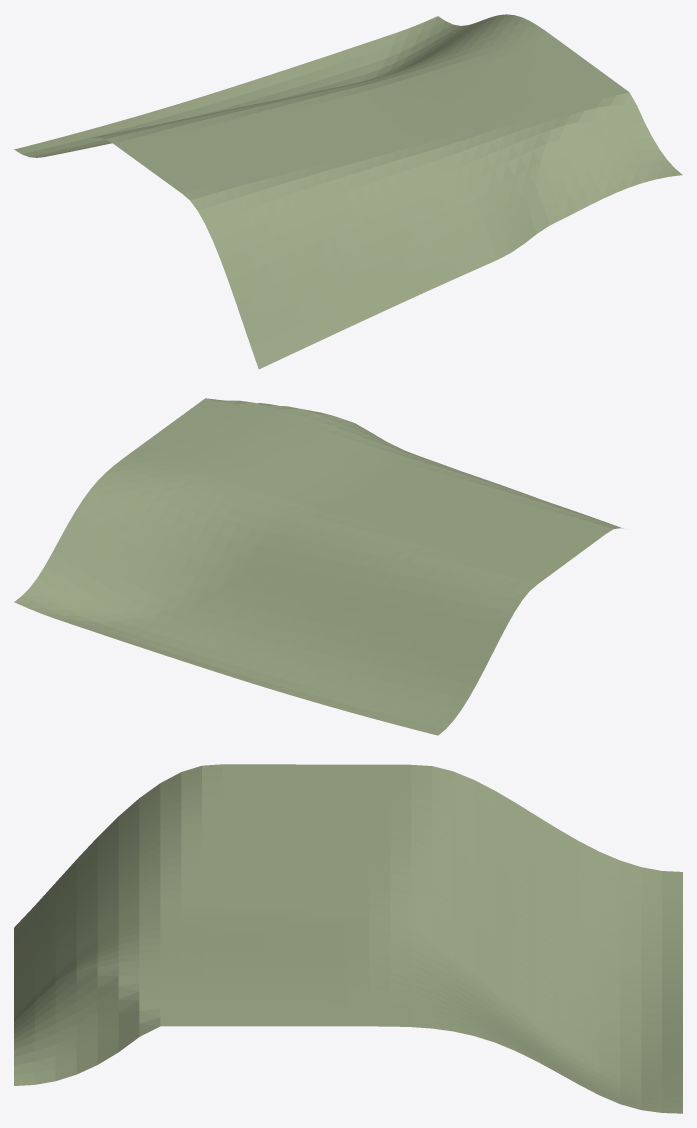
Rendered from alpine-8-11.glb.
3 views of the same model, one above another, from view 1: azimuth 30°, elevation 25°; view 2: azimuth 150°, elevation 25°; view 3: azimuth 270°, elevation 25° (orthographic). The views are drawn at different scales.
Visible parts, largest first — view 1: alpine-8-11; view 2: alpine-8-11; view 3: alpine-8-11.
Boxes of the visible parts, box(x1,y1,x2,y2) form: alpine-8-11: box(14, 14, 682, 369); alpine-8-11: box(14, 398, 623, 735); alpine-8-11: box(14, 764, 682, 1113).
Bounding box in the file's own units: 256 × 77.7 × 256.
